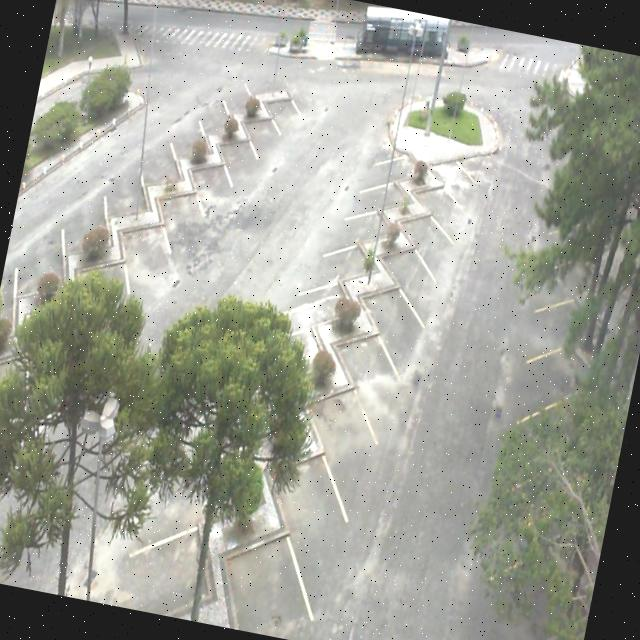empty: (110, 490, 230, 624), (217, 493, 321, 638), (258, 436, 362, 570), (294, 368, 386, 488), (328, 314, 410, 412), (348, 264, 424, 350), (11, 200, 77, 298), (56, 160, 124, 253), (278, 258, 356, 334), (375, 223, 447, 300), (112, 197, 174, 285), (98, 136, 160, 222), (316, 216, 384, 280), (152, 165, 208, 242), (180, 134, 238, 208), (395, 189, 459, 254), (326, 183, 394, 244), (136, 121, 192, 192), (413, 164, 474, 222), (356, 158, 418, 212), (168, 97, 218, 162), (214, 116, 266, 178), (429, 143, 486, 198), (238, 88, 288, 150), (218, 58, 268, 120), (366, 130, 426, 180), (196, 80, 243, 140), (261, 72, 305, 132)
